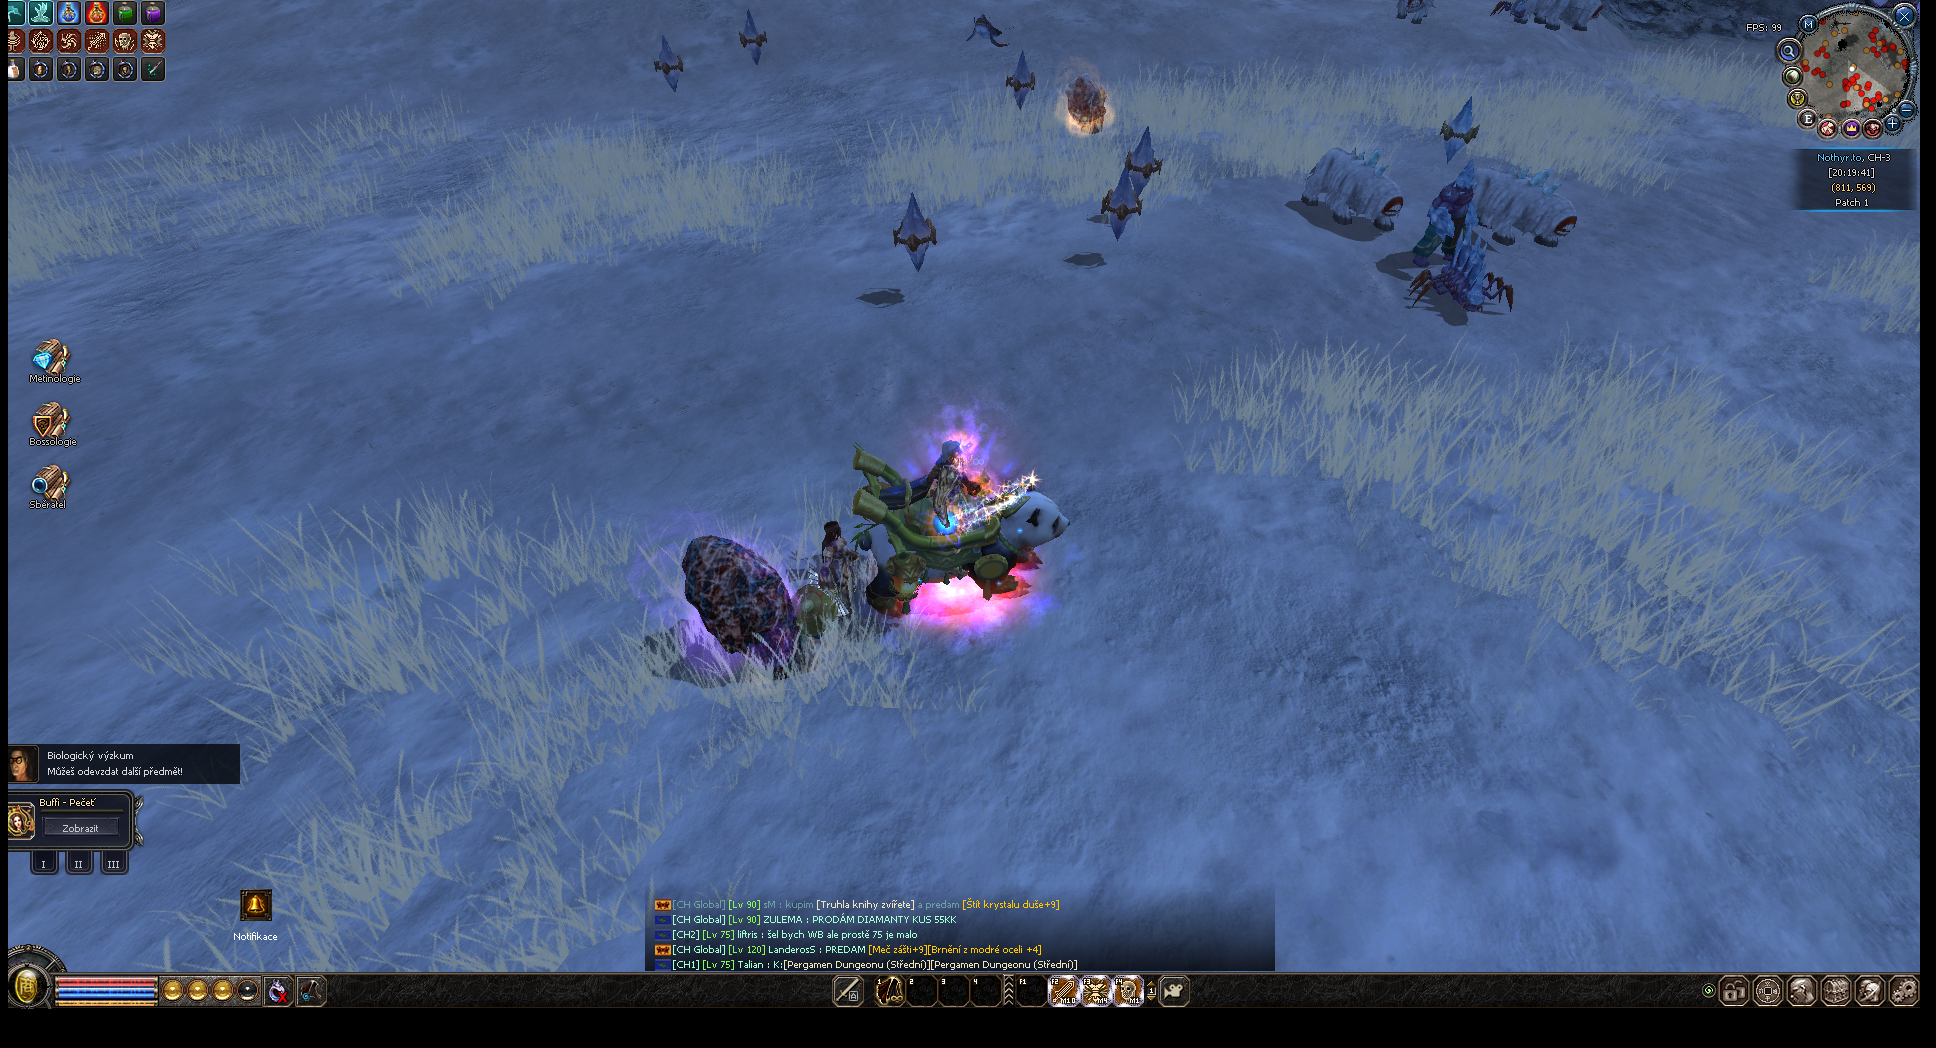Buff: (680, 530, 804, 675), (1065, 74, 1107, 134)
Enemy: (1409, 208, 1513, 314), (1300, 148, 1404, 231), (1471, 169, 1577, 247), (1412, 161, 1477, 267), (1491, 0, 1604, 31), (893, 194, 938, 271), (1098, 168, 1142, 239), (1125, 126, 1163, 199), (1440, 97, 1479, 163), (1005, 52, 1036, 108), (653, 36, 684, 92), (740, 10, 767, 65), (965, 14, 1008, 46), (1397, 0, 1437, 25)
Me: (854, 439, 1073, 620)
Statue: (809, 518, 867, 620)
